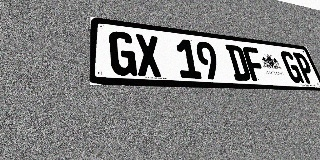1: (174, 38, 202, 79)
9: (194, 41, 222, 80)
D: (225, 44, 252, 81)
F: (242, 46, 268, 82)
G: (109, 31, 137, 76), (279, 51, 305, 83)
P: (292, 52, 317, 84)
X: (134, 34, 163, 77)
